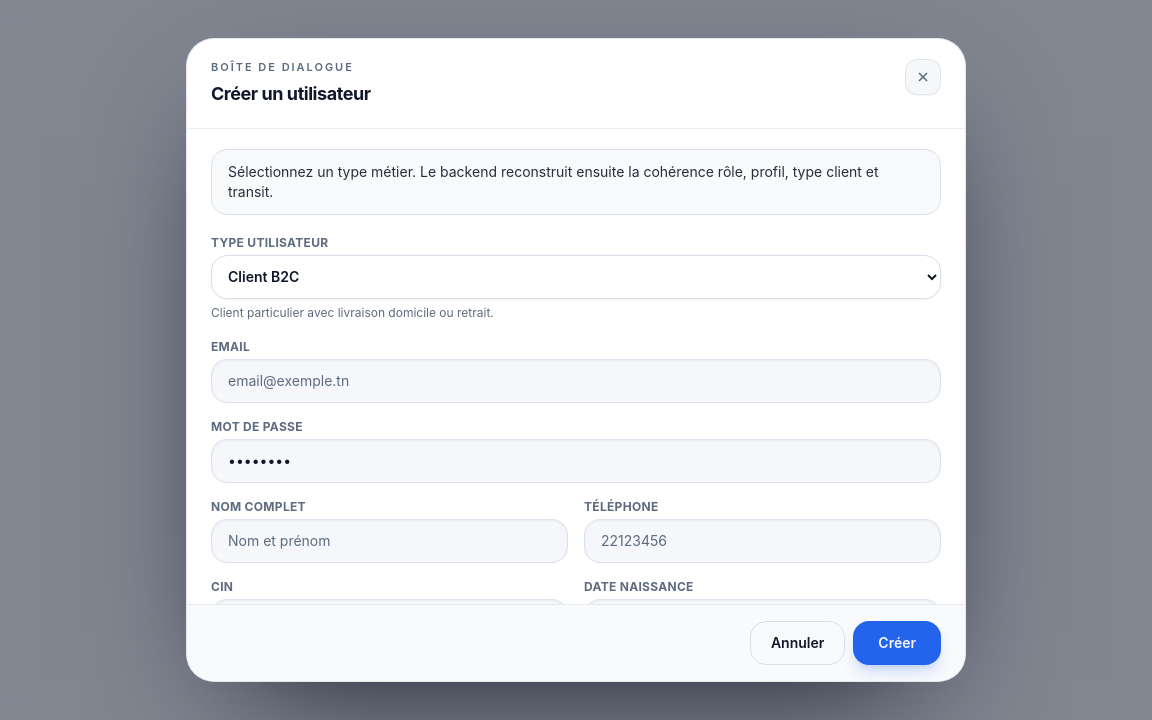
Scenario: AdminCreateUserModal › shows mandatory depot for LIVREUR_TRANSIT
Select "Livreur de transit" in the dropdown labelled "Type utilisateur" at (576, 277), box x1=211 y1=255 x2=941 y2=299
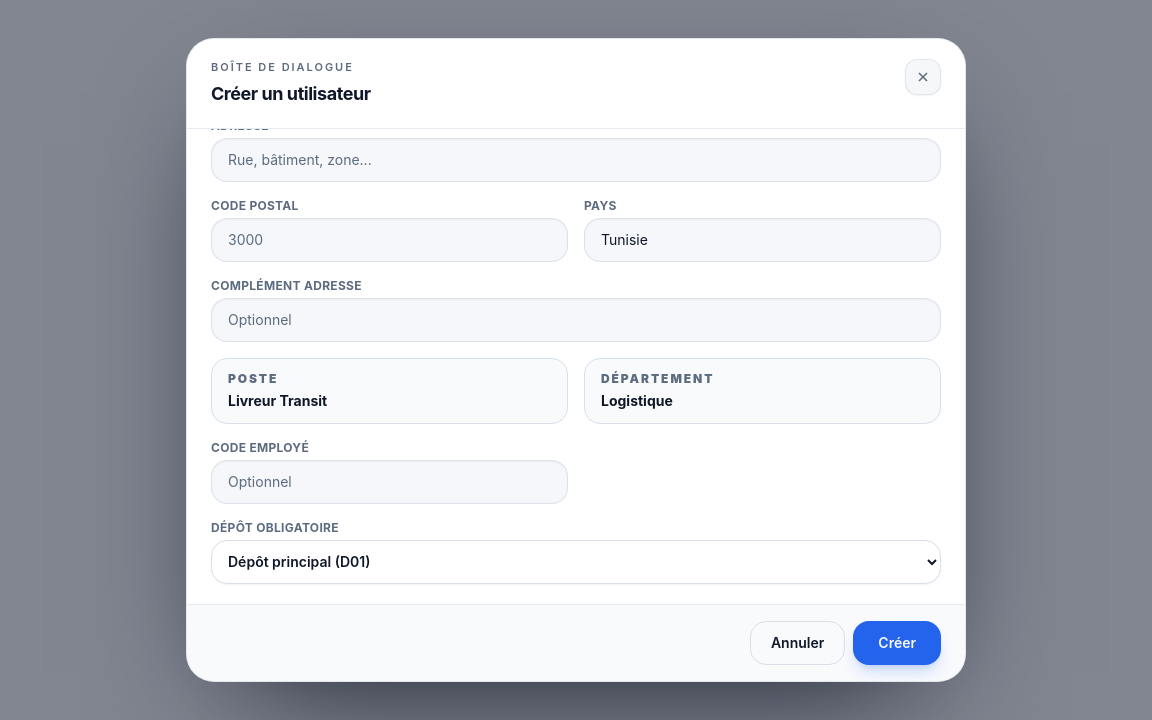
Expected: the dropdown labelled "Dépôt obligatoire" is shown, x1=211 y1=540 x2=941 y2=584
